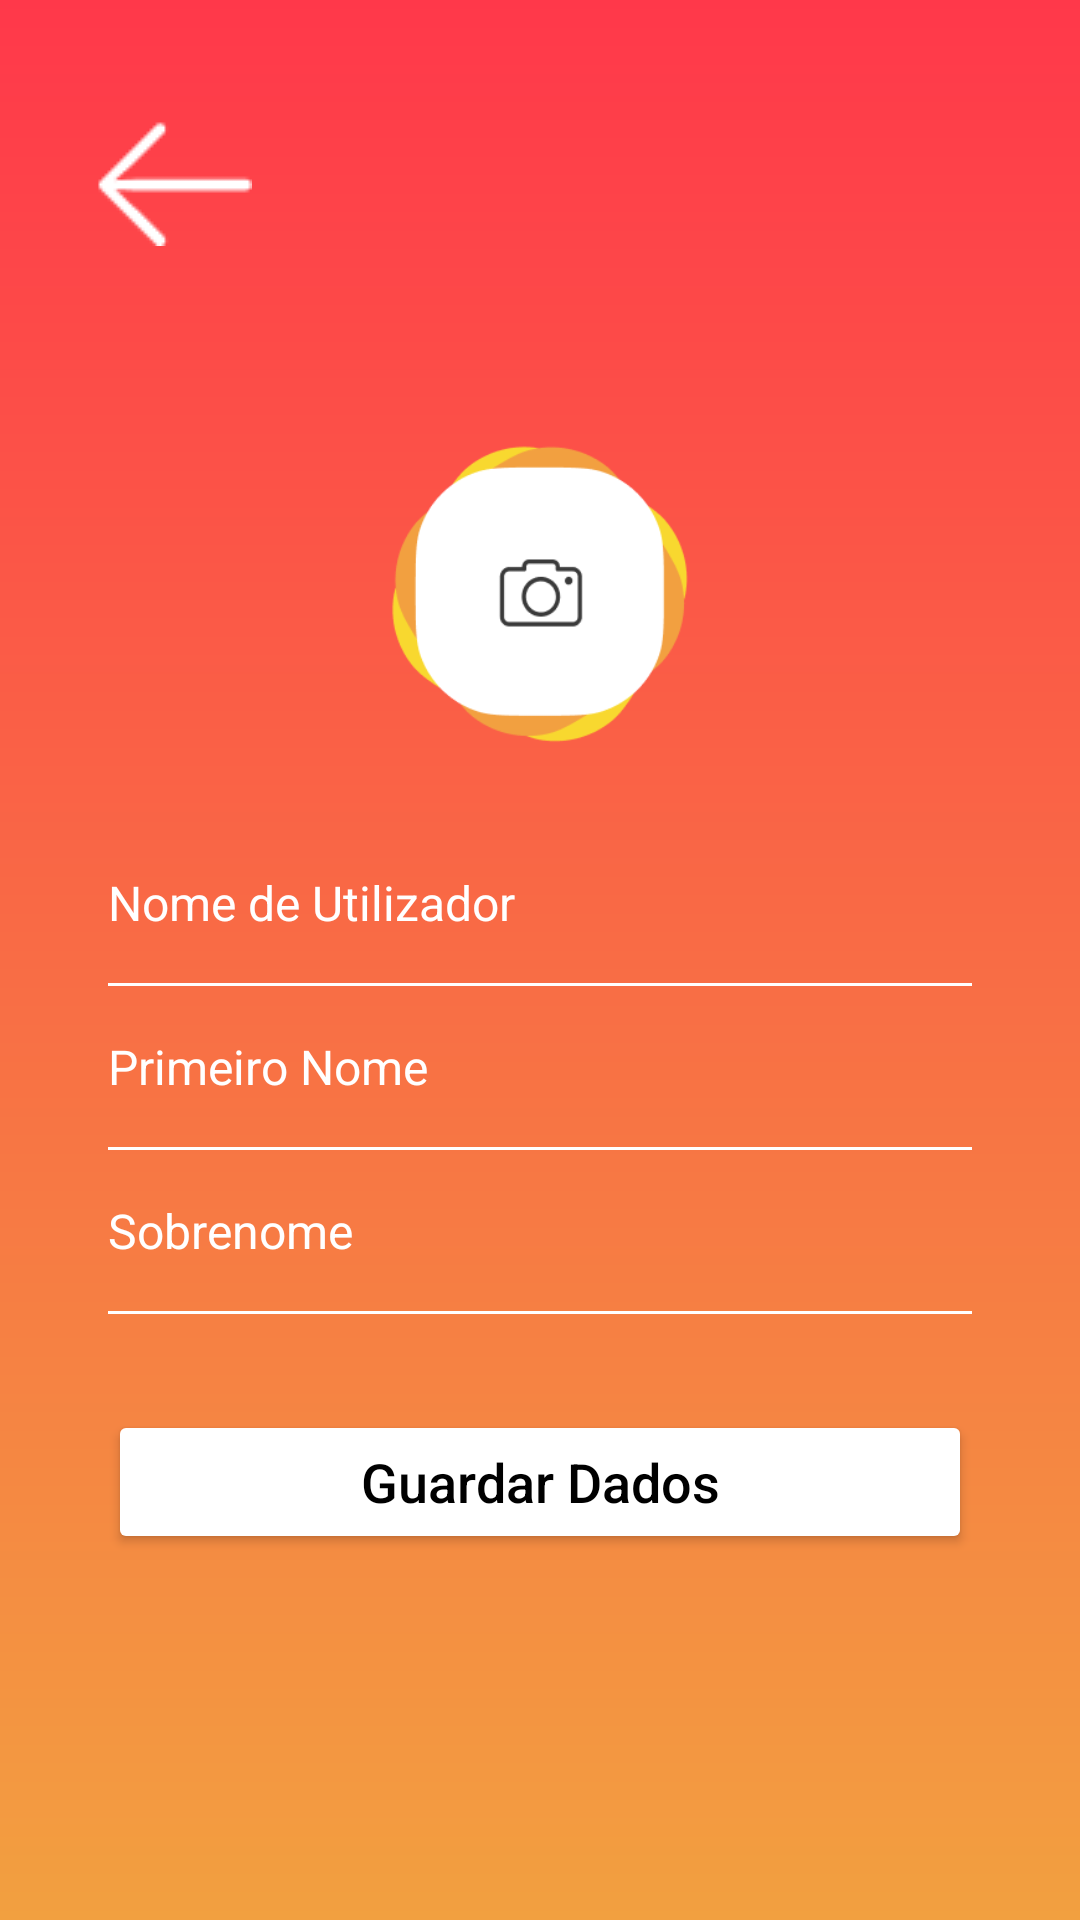

Icons on this 1080 x 1920 Android screen, each with the point to tap as (x,y):
setaback: (175,184)
